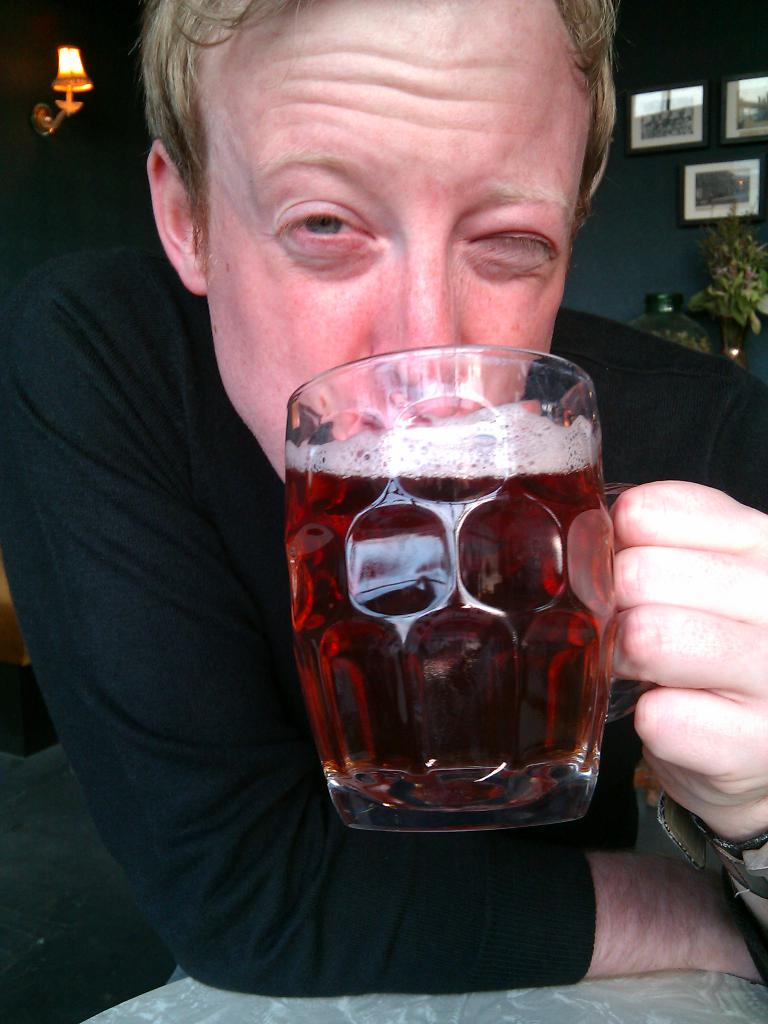Beer: (276, 330, 701, 840)
